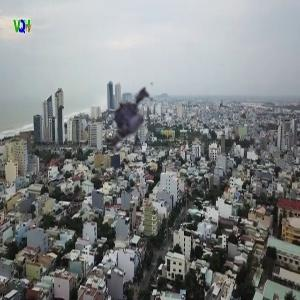drone: (83, 73, 186, 176)
